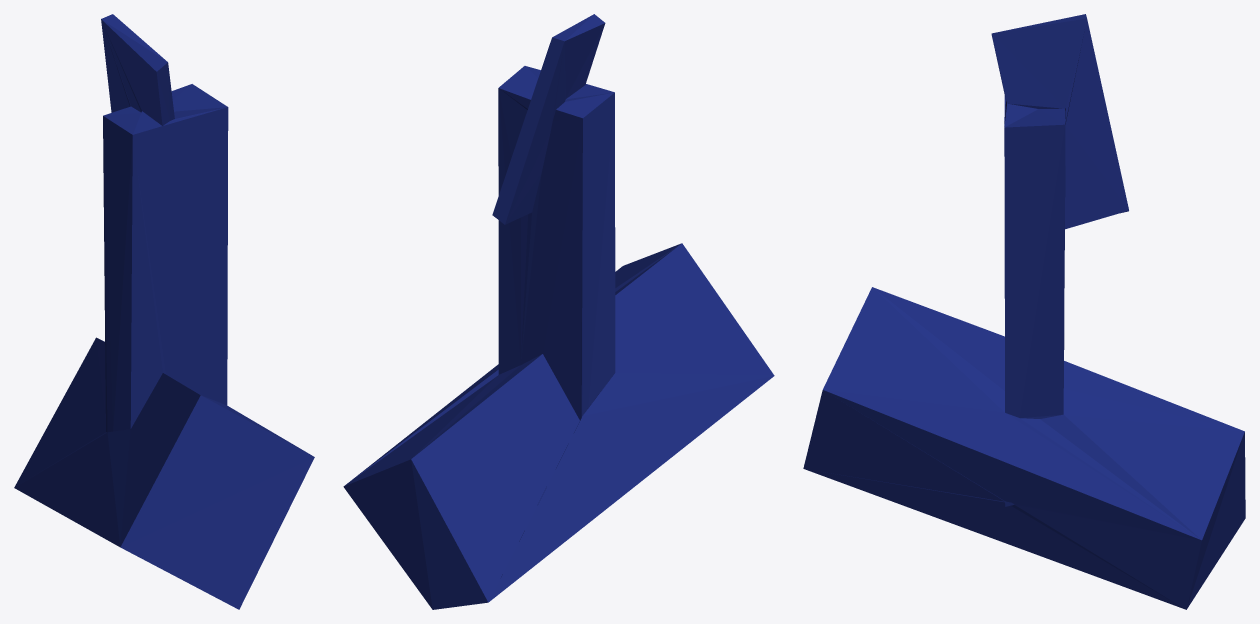
The picture shows the model from 3 angles, left to right: view 1: azimuth 30°, elevation 25°; view 2: azimuth 150°, elevation 25°; view 3: azimuth 270°, elevation 25°; orthographic projection. The views are drawn at different scales.
Visible parts, largest first — view 1: 841_Cube.3395; view 2: 841_Cube.3395; view 3: 841_Cube.3395.
Part boxes in pixels (x1,y1,x2,y2): 841_Cube.3395: [14, 14, 314, 609]; 841_Cube.3395: [343, 14, 774, 609]; 841_Cube.3395: [803, 14, 1245, 609].
Size of the model in its own units: 8.76 by 17.86 by 12.85.
